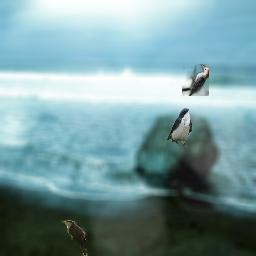Cuckoo: (61, 220, 88, 256)
Swallow: (166, 108, 192, 148)
Woodpecker: (182, 64, 209, 96)
